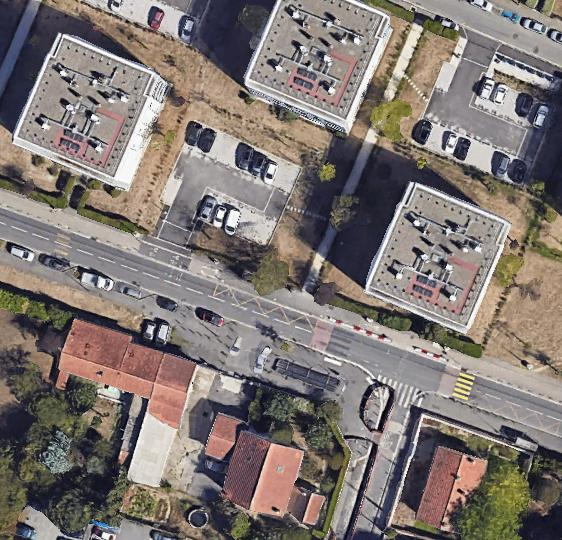immeuble: (8, 28, 174, 192), (360, 178, 512, 335), (238, 0, 398, 136)
maison: (186, 410, 342, 539), (51, 318, 201, 427), (414, 446, 486, 536)
